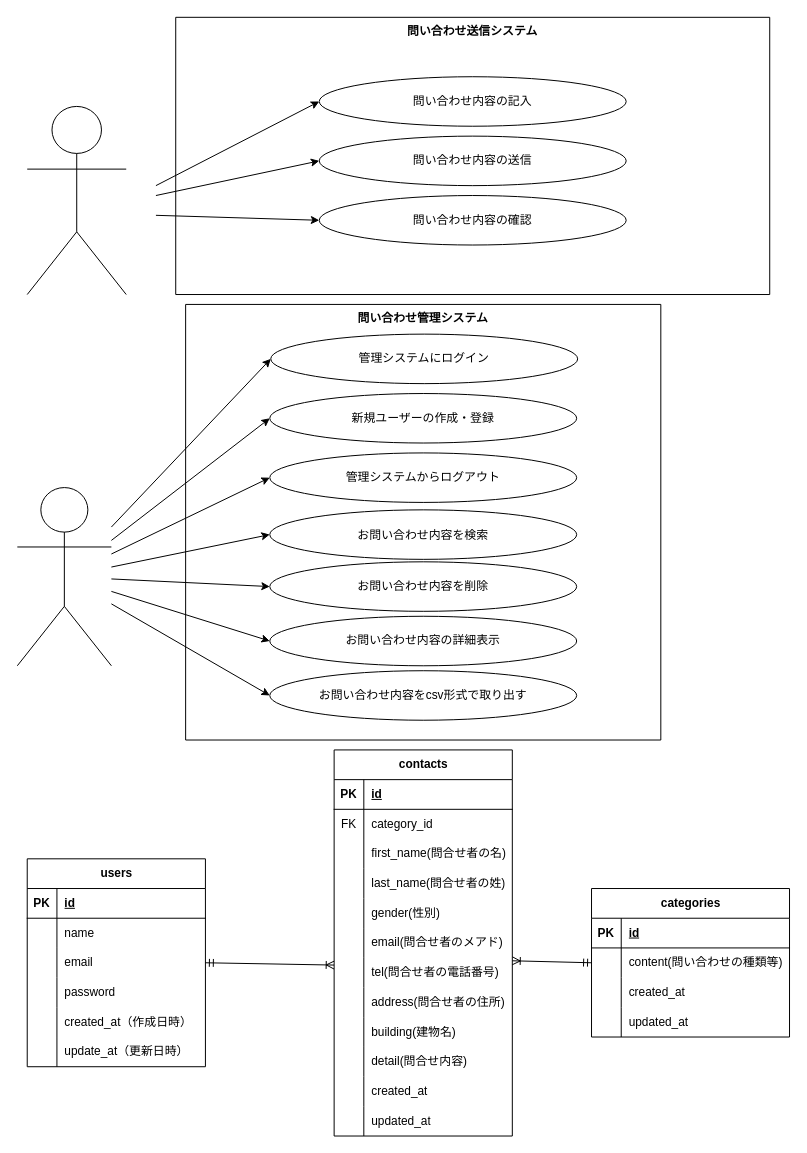
This 807x1153 diagram has some shape labels left out. Each missing label, with the centre of its shape:
"問合せ者" goes at [76,200].
"管理者" goes at [63,576].
